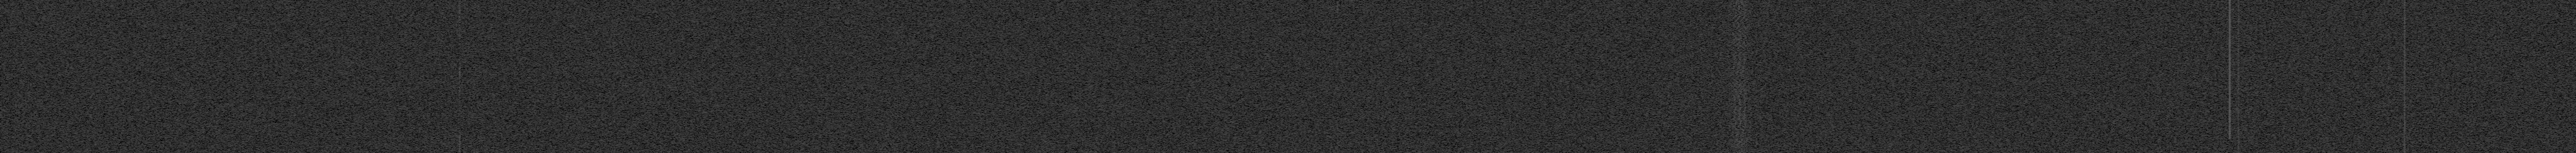wv_am: (2238, 0, 2241, 143), (2403, 30, 2407, 104), (2403, 105, 2407, 153), (2403, 0, 2407, 26), (2238, 143, 2241, 148), (2238, 150, 2241, 153)
wv_cw: (2228, 0, 2231, 140)
wv_lsb: (458, 0, 462, 43), (458, 66, 462, 105), (458, 130, 462, 153), (458, 105, 462, 112), (458, 43, 462, 48), (458, 117, 462, 120), (458, 51, 462, 54), (458, 48, 462, 51), (458, 120, 462, 122), (458, 114, 462, 115), (458, 56, 462, 58)
wv_usb: (613, 31, 616, 61), (1336, 54, 1339, 77), (2387, 41, 2390, 58), (2387, 87, 2390, 100), (1336, 105, 1339, 118), (1336, 0, 1339, 13), (2387, 100, 2390, 112), (2387, 76, 2390, 87), (2387, 0, 2390, 12), (613, 128, 616, 140), (2387, 135, 2390, 145), (2387, 118, 2390, 128), (2387, 64, 2390, 74), (1336, 137, 1339, 146), (1336, 89, 1339, 99), (613, 13, 616, 23), (613, 118, 616, 127), (613, 76, 616, 84), (613, 3, 616, 12), (2387, 146, 2390, 153), (2387, 30, 2390, 36), (613, 95, 616, 102), (2387, 112, 2390, 117), (2387, 36, 2390, 41), (1336, 130, 1339, 135), (1336, 120, 1339, 125), (1336, 38, 1339, 43), (1336, 26, 1339, 31), (1336, 15, 1339, 20), (613, 71, 616, 76), (613, 63, 616, 67), (2387, 132, 2390, 135), (2387, 59, 2390, 63), (2387, 13, 2390, 16), (1336, 150, 1339, 153), (1336, 125, 1339, 128), (1336, 84, 1339, 87), (613, 114, 616, 117), (613, 140, 614, 145), (613, 107, 614, 112), (2387, 128, 2390, 130), (1336, 51, 1339, 53), (613, 148, 614, 151), (613, 92, 614, 95), (613, 26, 614, 30), (613, 0, 614, 3), (613, 146, 614, 148), (614, 86, 616, 87)
wv_wbfm: (1725, 0, 1755, 153)
